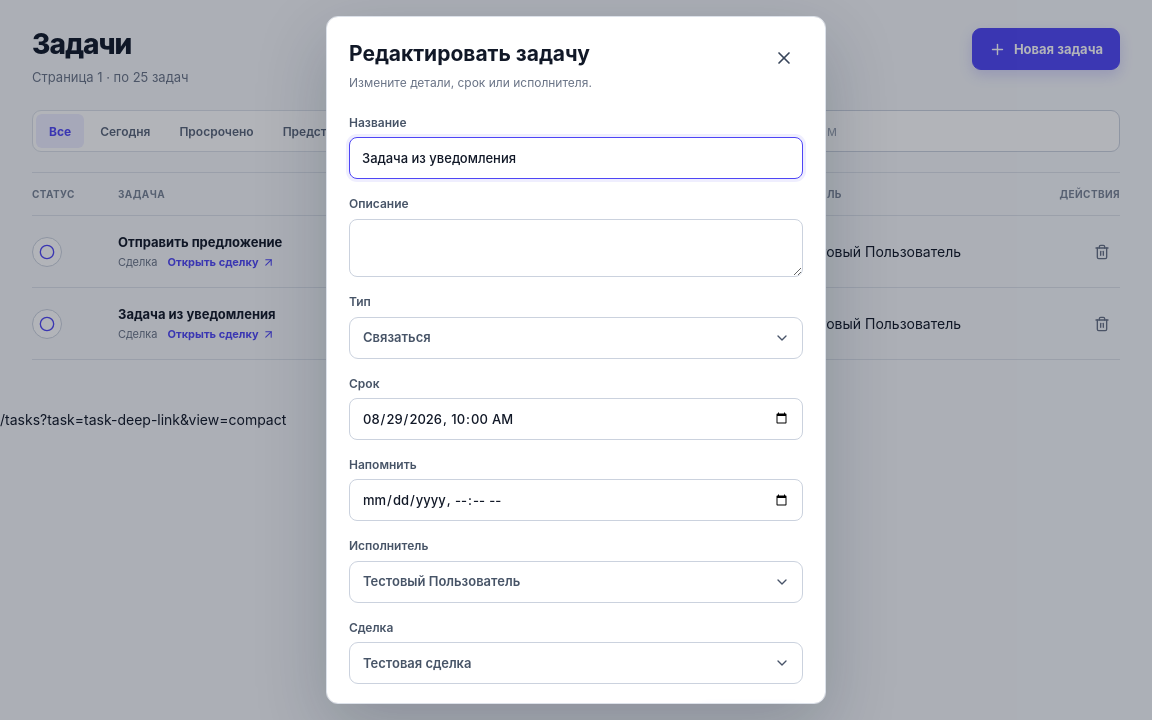
Test: TasksPage › loads and opens a task outside the current page from a deep-link URL
Expected: the field labelled "Название" holds "Задача из уведомления", [349, 137, 803, 179]
Click the button named "Закрыть" at point(784, 58), box [765, 39, 803, 77]
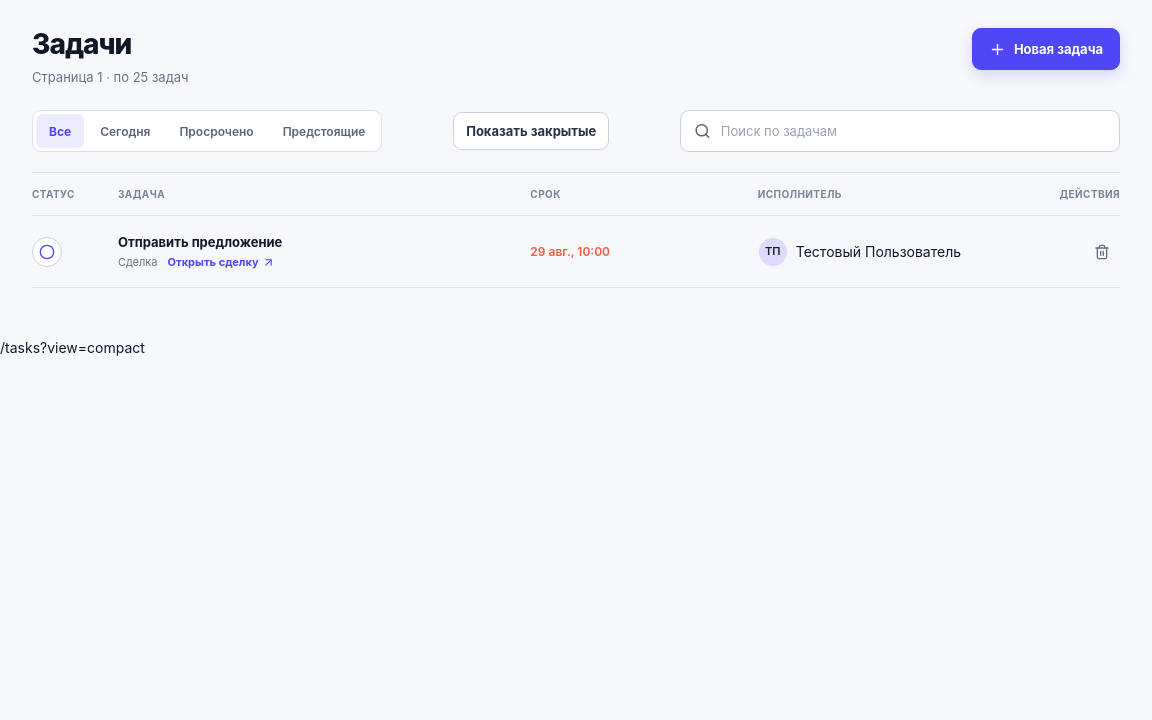
Expected: the heading "Редактировать задачу" is gone
Expected: the text named "Текущий адрес" reads "/tasks?view=compact", [0, 339, 145, 356]
